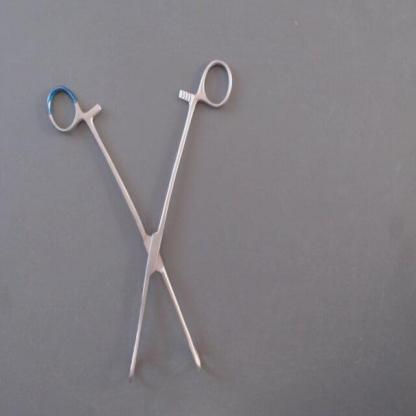Sponge Forceps: (36, 50, 242, 391)
